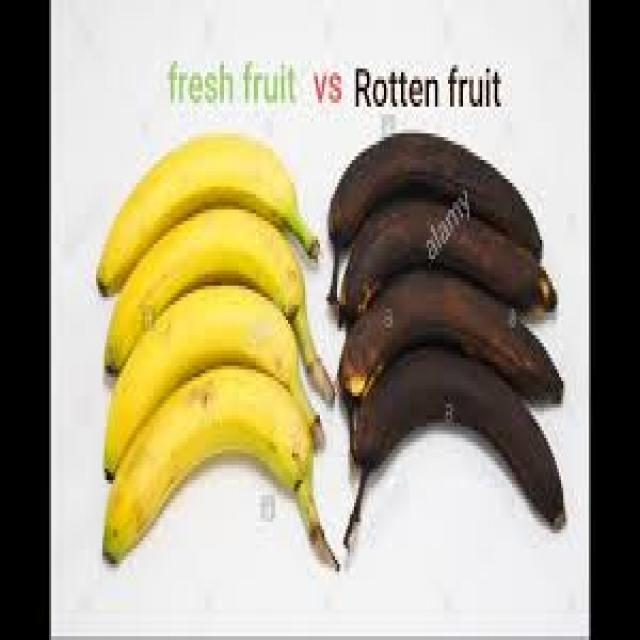organic waste: (100, 358, 337, 572), (342, 339, 564, 549), (102, 198, 333, 396), (103, 278, 322, 476), (94, 130, 318, 297), (324, 126, 540, 297), (335, 263, 563, 400), (337, 186, 555, 324)
